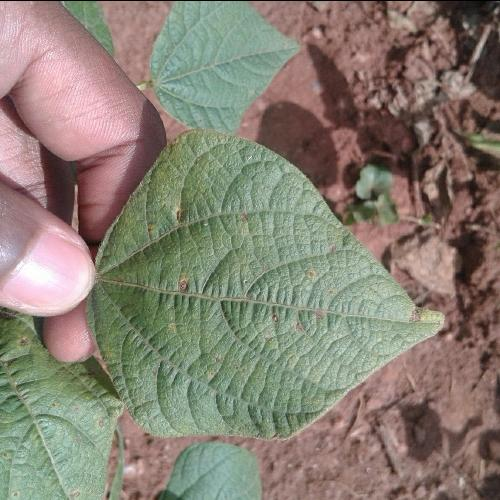embun tepung: (156, 166, 355, 397)
